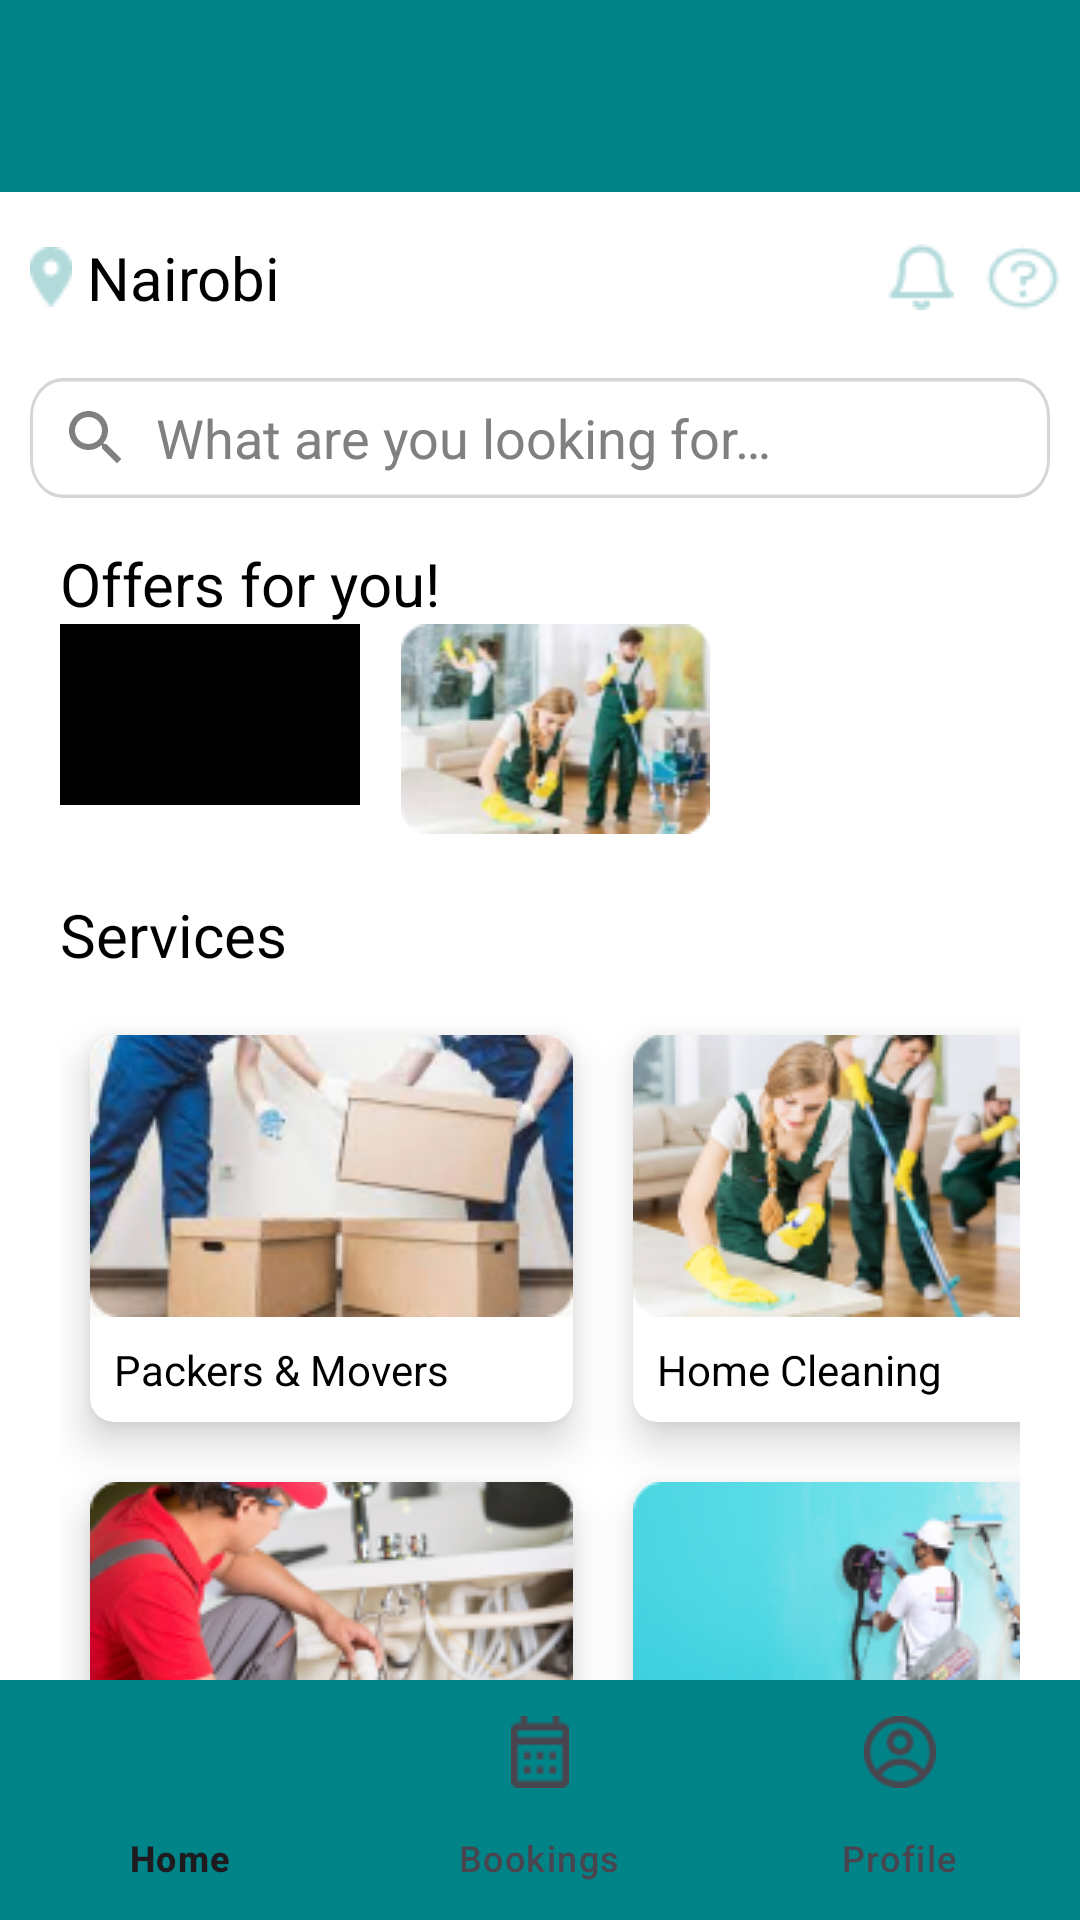

Point at icon controls on the screen. Image size 1080*1920, points as (x,y).
Help: (1023,278)
Location: (51,277)
Notification: (922,277)
Search: (95,437)
